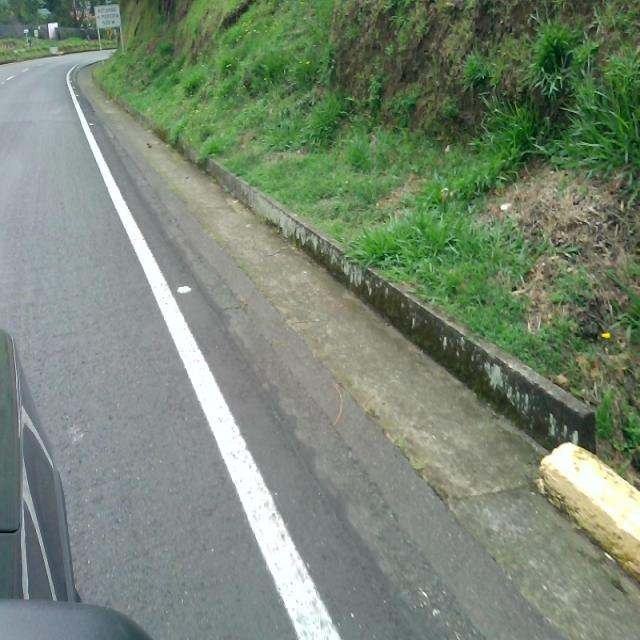DITCH: (71, 29, 638, 630), (67, 52, 638, 638)
